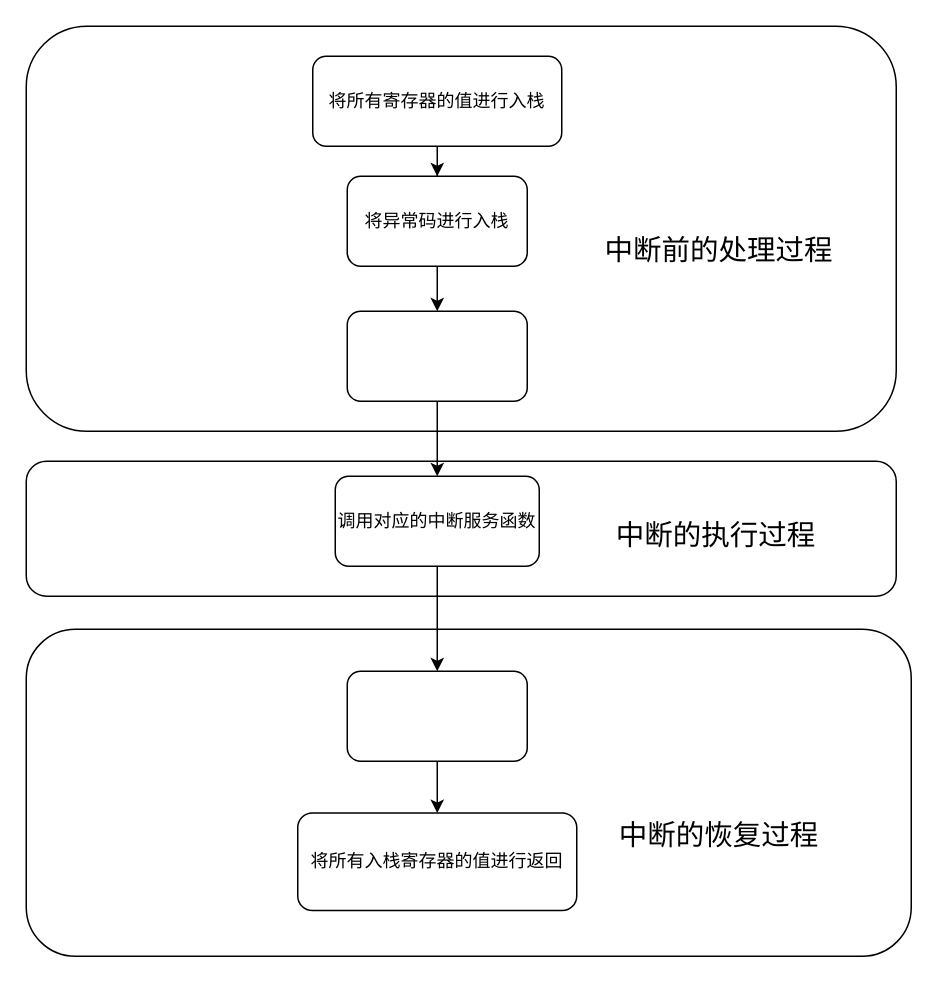
The diagram is 938 pixels wide and 983 high, and some of its shapes have lost their labels. Each missing label, with the centre of its shape:
"出栈函数返回地址" goes at pixel 436 715.
"将返回地址进行入栈" goes at pixel 436 355.
